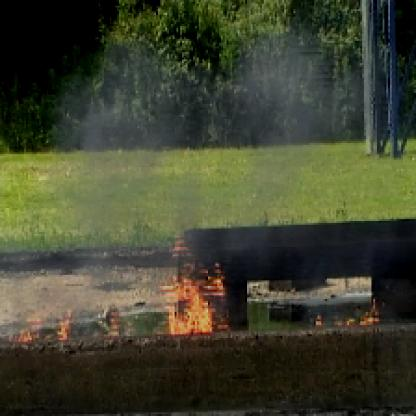Fire: (163, 221, 236, 340)
Smoke: (87, 39, 372, 243)
